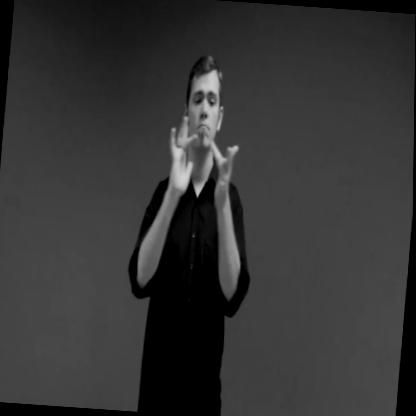Internet: (158, 97, 244, 228)
